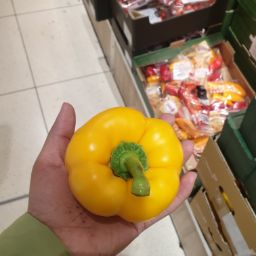Bell pepper: (59, 102, 190, 236), (87, 128, 173, 200)
